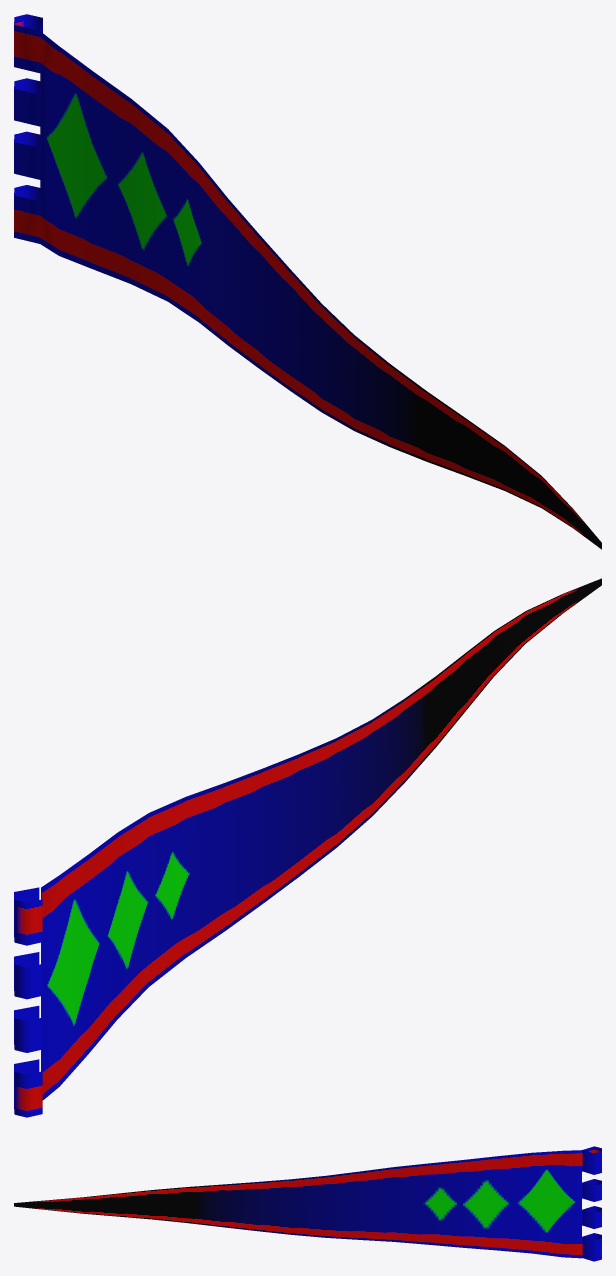
The model's file is SM_Flag_v1.fbx.
3 views of the same model, one above another, from view 1: azimuth 30°, elevation 25°; view 2: azimuth 150°, elevation 25°; view 3: azimuth 270°, elevation 25° (orthographic). The views are drawn at different scales.
Visible parts, largest first — view 1: SM_Flag_v1_LOD0; view 2: SM_Flag_v1_LOD0; view 3: SM_Flag_v1_LOD0.
Part boxes in pixels (left/top/right/bottom): SM_Flag_v1_LOD0: left=14, top=14, right=601, bottom=549; SM_Flag_v1_LOD0: left=14, top=578, right=601, bottom=1117; SM_Flag_v1_LOD0: left=14, top=1146, right=601, bottom=1261.
Bounding box in the file's own units: 5.81 × 203 × 41.42.
Materials: 1 (1 with a texture image).
